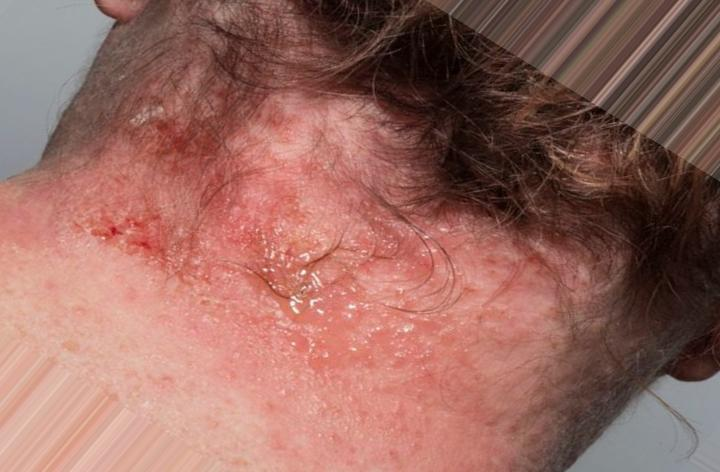Contact Dermatitis: (121, 56, 565, 379)
